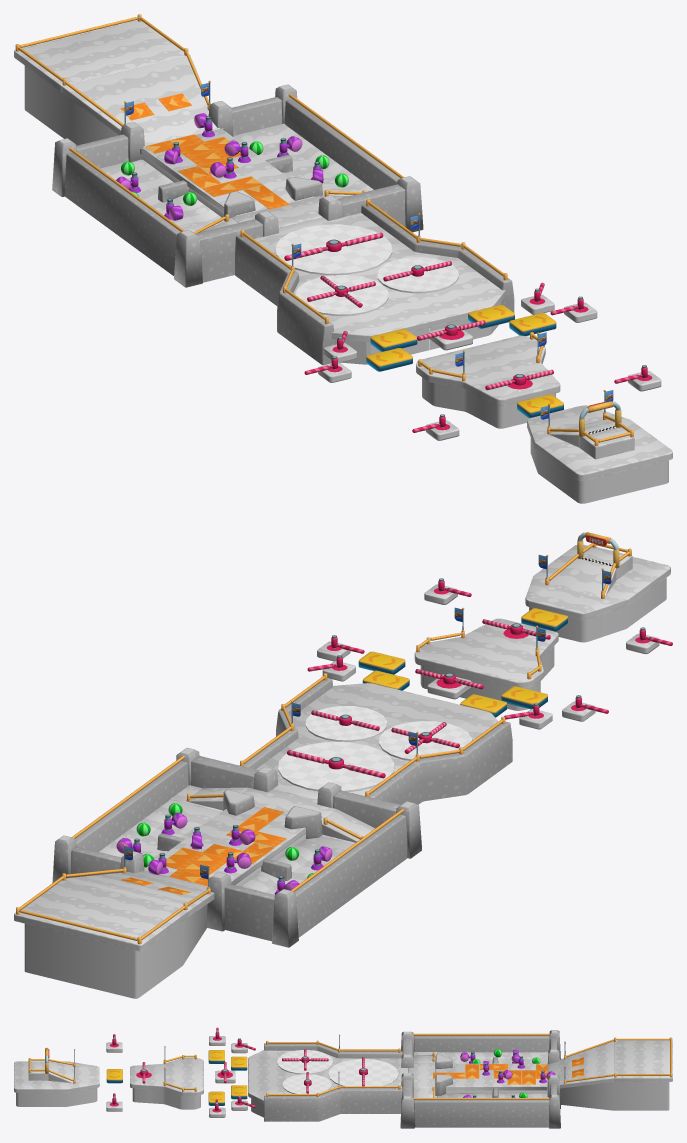
3 renders of one model, top to bottom at view 1: azimuth 30°, elevation 25°; view 2: azimuth 150°, elevation 25°; view 3: azimuth 270°, elevation 25°, orthographic. The views are drawn at different scales.
Parts seen in each view (by area): view 1: Level1Visuals, SpinningDisc.001, SpinningDisc, SpinningDisc.002, GoalPlatform, MovingPlatform (1).003, MovingPlatform (1).002, MovingPlatform (1).004, MovingPlatform (1); view 2: Level1Visuals, SpinningDisc.001, GoalPlatform, SpinningDisc, SpinningDisc.002, MovingPlatform (1).002, MovingPlatform (1).005, MovingPlatform (1).003; view 3: Level1Visuals, SpinningDisc.001, SpinningDisc, GoalPlatform, SpinningDisc.002, FenceLong (16), FenceLong (15), MovingPlatform (1).004, MovingPlatform (1).005, MovingPlatform (1), MovingPlatform (1).002, MovingPlatform (1).003 (+3 smaller).
Boxes of the visible parts, x1=… form: Level1Visuals: x1=14, y1=20, x2=672, y2=503; SpinningDisc.001: x1=275, y1=224, x2=392, y2=275; SpinningDisc: x1=295, y1=275, x2=388, y2=315; SpinningDisc.002: x1=377, y1=257, x2=458, y2=293; GoalPlatform: x1=549, y1=419, x2=634, y2=459; MovingPlatform (1).003: x1=366, y1=348, x2=412, y2=371; MovingPlatform (1).002: x1=509, y1=313, x2=556, y2=335; MovingPlatform (1).004: x1=370, y1=328, x2=417, y2=351; MovingPlatform (1): x1=468, y1=305, x2=514, y2=328; Level1Visuals: x1=14, y1=544, x2=670, y2=998; SpinningDisc.001: x1=278, y1=742, x2=394, y2=791; GoalPlatform: x1=548, y1=547, x2=632, y2=598; SpinningDisc: x1=379, y1=721, x2=472, y2=760; SpinningDisc.002: x1=305, y1=706, x2=386, y2=741; MovingPlatform (1).002: x1=358, y1=651, x2=405, y2=674; MovingPlatform (1).005: x1=521, y1=608, x2=567, y2=631; MovingPlatform (1).003: x1=501, y1=686, x2=547, y2=709; Level1Visuals: x1=14, y1=1030, x2=672, y2=1128; SpinningDisc.001: x1=328, y1=1059, x2=398, y2=1086; SpinningDisc: x1=277, y1=1050, x2=333, y2=1074; GoalPlatform: x1=28, y1=1061, x2=75, y2=1083; SpinningDisc.002: x1=282, y1=1074, x2=331, y2=1093; FenceLong (16): x1=413, y1=1033, x2=549, y2=1035; FenceLong (15): x1=413, y1=1098, x2=549, y2=1099; MovingPlatform (1).004: x1=231, y1=1056, x2=247, y2=1070; MovingPlatform (1).005: x1=106, y1=1069, x2=122, y2=1083; MovingPlatform (1): x1=231, y1=1085, x2=247, y2=1099; MovingPlatform (1).002: x1=208, y1=1091, x2=224, y2=1105; MovingPlatform (1).003: x1=208, y1=1050, x2=224, y2=1063.
Bounding box in the file's own units: 28.18 × 6.7 × 93.61.
